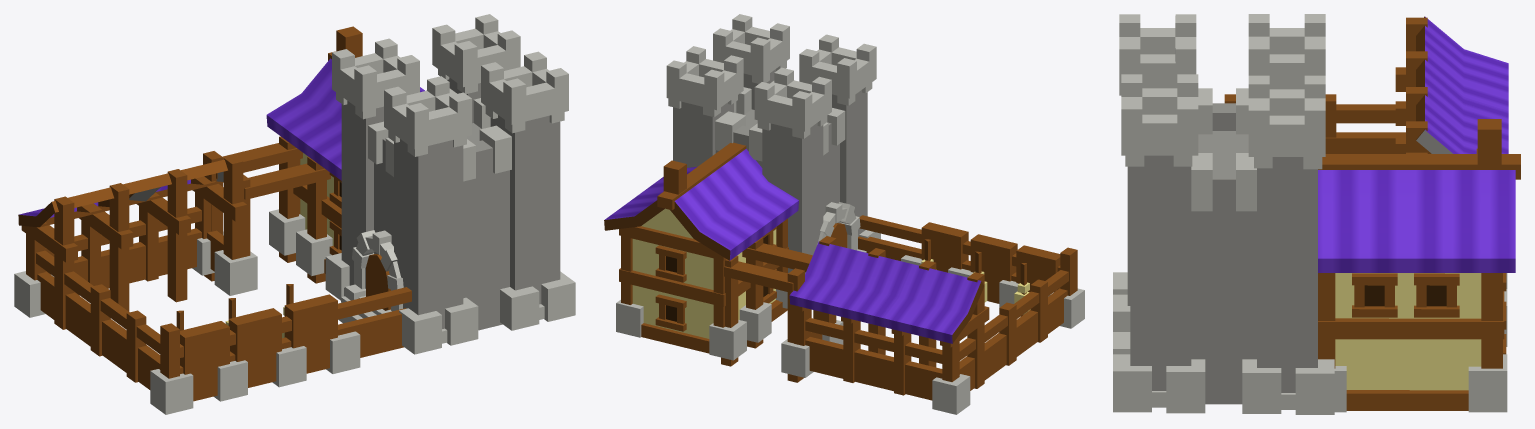
File: archerschool.fbx
3 renders of one model, left to right at view 1: azimuth 30°, elevation 25°; view 2: azimuth 150°, elevation 25°; view 3: azimuth 270°, elevation 25°, orthographic. The views are drawn at different scales.
Visible parts, largest first — view 1: polySurface168; view 2: polySurface168; view 3: polySurface168.
Part boxes in pixels (box(x1,y1,x2,y2)): polySurface168: box(14, 14, 575, 414); polySurface168: box(604, 14, 1084, 414); polySurface168: box(1113, 14, 1520, 414).
Bounding box in the file's own units: 314 × 190 × 216.
1 material, 1 textured.
